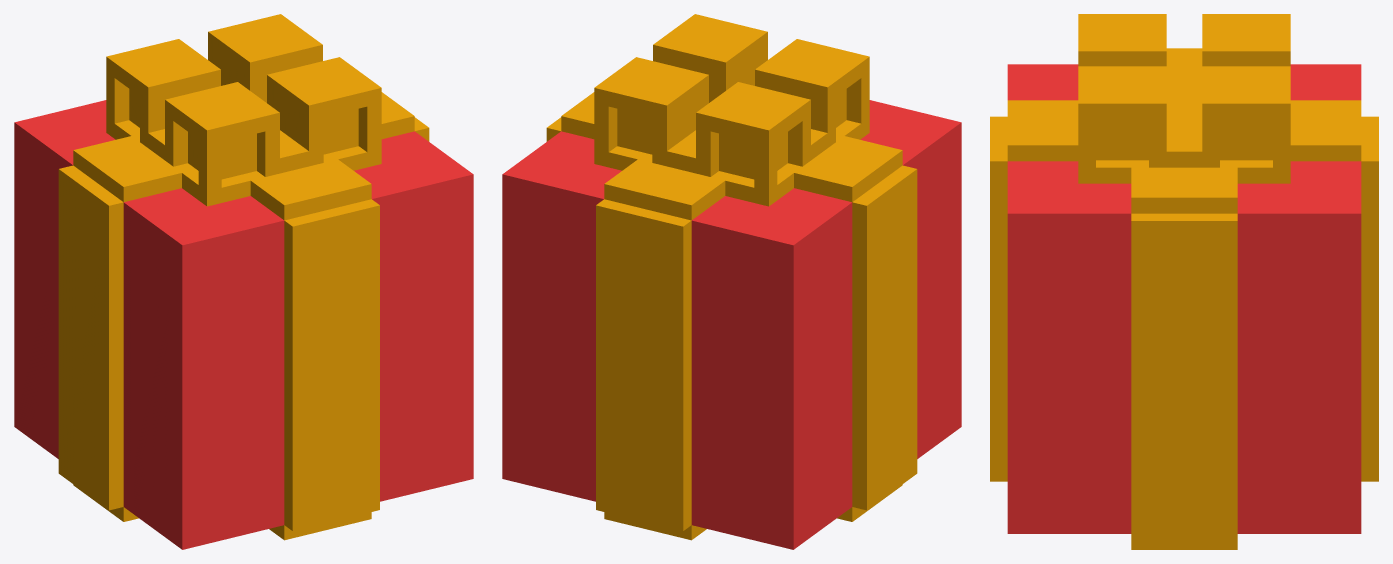
File: gift.glb
3 views of the same model, side by side, from view 1: azimuth 30°, elevation 25°; view 2: azimuth 150°, elevation 25°; view 3: azimuth 270°, elevation 25° (orthographic). The views are drawn at different scales.
Visible parts, largest first — view 1: Object_2; view 2: Object_2; view 3: Object_2.
Boxes of the visible parts, box(x1,y1,x2,y2) form: Object_2: box(14, 14, 473, 549); Object_2: box(502, 14, 961, 549); Object_2: box(990, 14, 1378, 549).
Bounding box in the file's own units: 4.4 × 5.2 × 4.4.
1 material, 1 textured.
